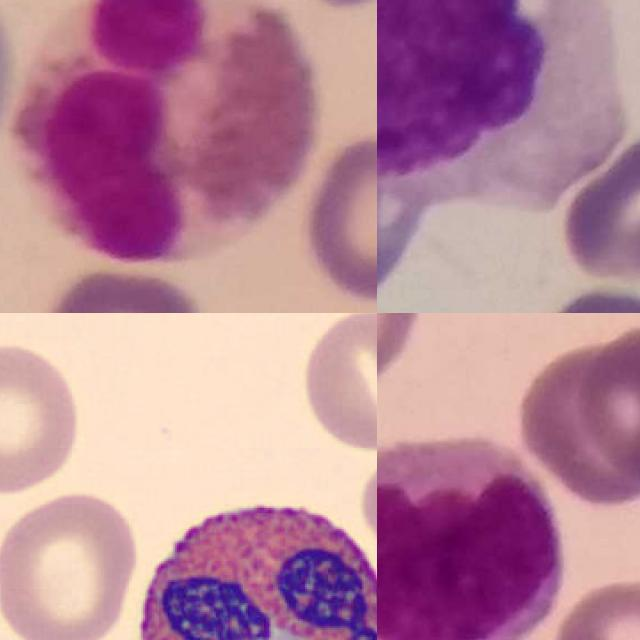Eosinophil: (10, 0, 323, 263), (119, 479, 377, 640)
Monocyte: (377, 0, 623, 214), (377, 434, 568, 640)
RBC: (0, 486, 141, 640), (0, 337, 86, 499), (296, 313, 377, 453)
